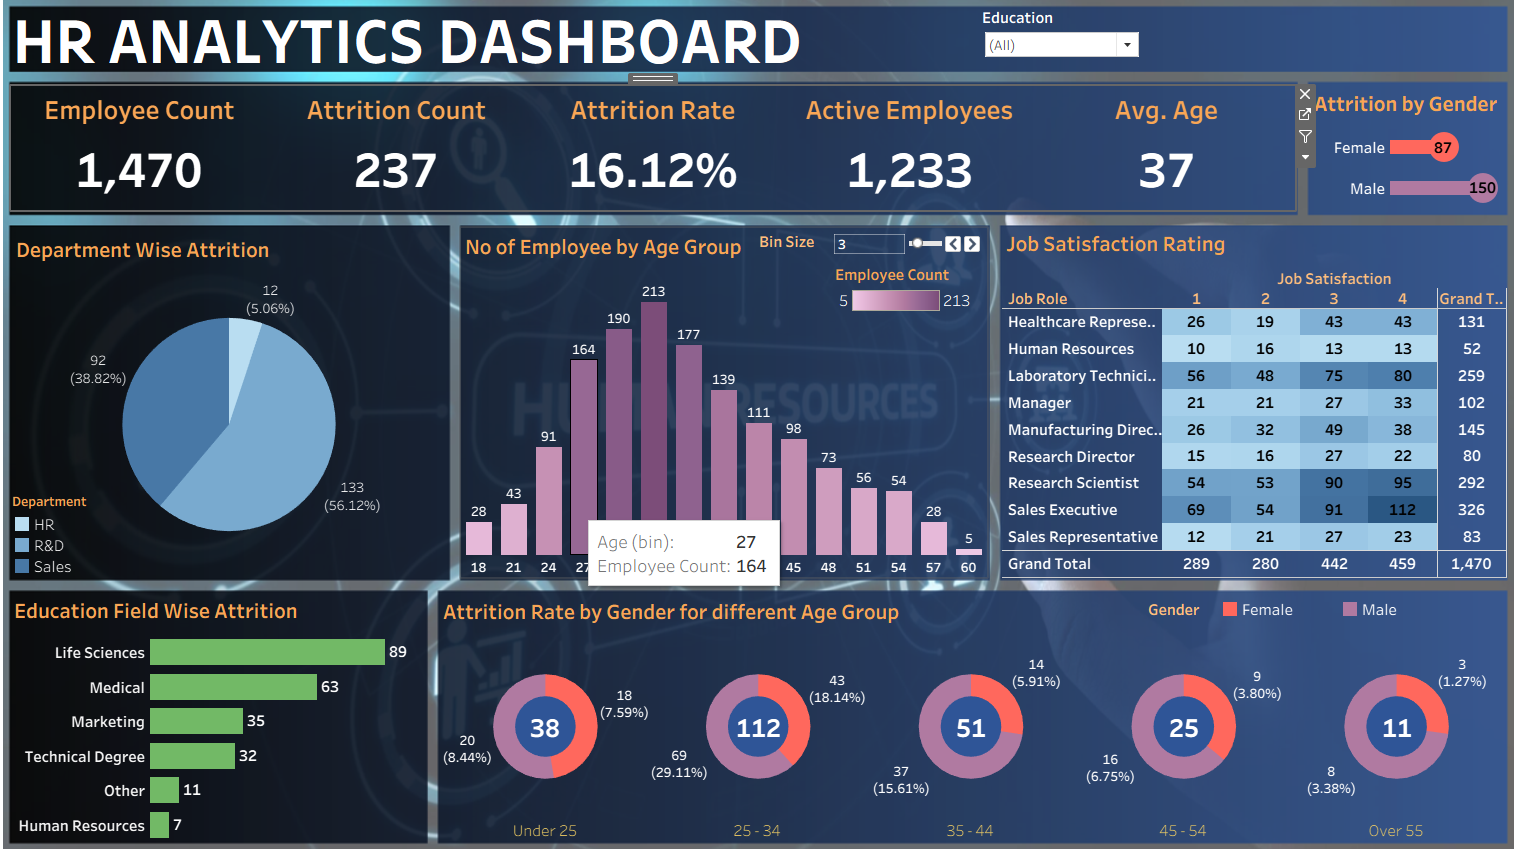

What the dashboard file says about the page in this screenshot:
{"tool":"tableau","page":{"name":"HR Analytics Dashboard","canvas":[1000,1000],"units":"permille","ordinal":0},"visuals":[{"type":"image","param":"C:/Users/VJ/Downloads/HR background.pptx.png","box":[5.1,9.2,989.9,981.7]},{"type":"filter","title":"Department Wise Attrition","param":"[federated.0lw17b312orupe106sxhs0pl86u5].[none:Education:nk]","box":[641.1,21.7,101.3,68.7]},{"type":"text","box":[25.3,25.2,513.3,64.1]},{"type":"worksheet","title":"Attrition by Gender","mark":"Automatic","rows":["Gender"],"cols":["Calculation_0176475543453696","Calculation_0176475543453696"],"box":[848.7,111,122.2,140.7]},{"type":"worksheet","title":"KPI","mark":"Automatic","box":[26.6,112.1,812.7,141.9]},{"type":"worksheet","title":"Job Satisfaction Rating","mark":"Square","rows":["Job Role"],"cols":["Job Satisfaction"],"box":[653.8,271.2,319.6,403.9]},{"type":"worksheet","title":"No of Employee by Age Group","mark":"Automatic","rows":["Employee Count"],"cols":["Age (bin)"],"box":[311.4,274.6,332.9,399.3]},{"type":"worksheet","title":"Department Wise Attrition","mark":"Pie","box":[27.2,278,274.7,393.6]},{"type":"parameter","param":"[Parameters].[Parameter 1]","box":[500,278,141.8,43.5]},{"type":"legend","title":"No of Employee by Age Group","param":"[federated.0lw17b312orupe106sxhs0pl86u5].[sum:Employee Count:qk]","box":[548.1,315.8,88.6,53.8]},{"type":"legend","title":"Department Wise Attrition","param":"[federated.0lw17b312orupe106sxhs0pl86u5].[none:Department:nk]","box":[27.2,576.7,53.8,97.2]},{"type":"worksheet","title":"Education Field Wise Attrition","mark":"Automatic","rows":["Education Field"],"cols":["Calculation_0176475543453696"],"box":[25.9,691.1,262.7,286]},{"type":"worksheet","title":"Attrition Rate by Gender for different Age Group","mark":"Pie","rows":["Calculation_0855983975673861","Calculation_0855983975673861"],"cols":["CF_age band"],"box":[297.5,692.2,673.4,284.9]},{"type":"legend","title":"Attrition Rate by Gender for different Age Group","param":"[federated.0lw17b312orupe106sxhs0pl86u5].[none:Gender:nk]","box":[746.2,699.1,220.2,38.9]}]}

Visuals, with their boxes on the dashboard's canvas, which has no fixed pixel size, in thousandths of its width and height (x1, y1, x2, y2). These are canvas units, not pixel positions in the 1516x849 screenshot, which may show the page scaled, cropped or inside an application window:
image: [x1=5, y1=9, x2=995, y2=991]
"Department Wise Attrition" filter: [x1=641, y1=22, x2=742, y2=90]
text: [x1=25, y1=25, x2=539, y2=89]
"Attrition by Gender" worksheet: [x1=849, y1=111, x2=971, y2=252]
"KPI" worksheet: [x1=27, y1=112, x2=839, y2=254]
"Job Satisfaction Rating" worksheet (Square marks): [x1=654, y1=271, x2=973, y2=675]
"No of Employee by Age Group" worksheet: [x1=311, y1=275, x2=644, y2=674]
"Department Wise Attrition" worksheet (Pie marks): [x1=27, y1=278, x2=302, y2=672]
parameter: [x1=500, y1=278, x2=642, y2=322]
"No of Employee by Age Group" legend: [x1=548, y1=316, x2=637, y2=370]
"Department Wise Attrition" legend: [x1=27, y1=577, x2=81, y2=674]
"Education Field Wise Attrition" worksheet: [x1=26, y1=691, x2=289, y2=977]
"Attrition Rate by Gender for different Age Group" worksheet (Pie marks): [x1=298, y1=692, x2=971, y2=977]
"Attrition Rate by Gender for different Age Group" legend: [x1=746, y1=699, x2=966, y2=738]
